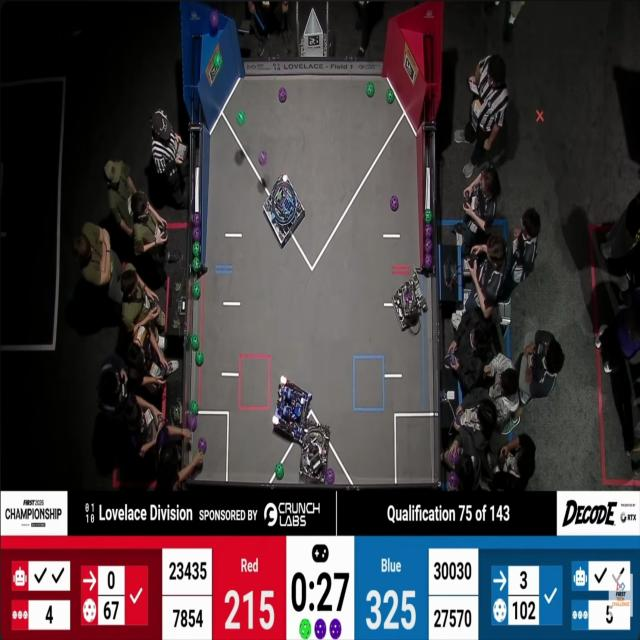artifact_green: (300, 619, 311, 639), (210, 10, 219, 33), (275, 462, 284, 481), (195, 350, 204, 367), (192, 241, 201, 258), (193, 282, 201, 300), (198, 438, 207, 454), (172, 406, 180, 423), (191, 334, 199, 350), (190, 400, 198, 415), (214, 53, 222, 68), (192, 258, 201, 271), (193, 227, 201, 241), (237, 111, 245, 125), (387, 89, 394, 104), (367, 82, 374, 97), (425, 209, 432, 223)
artifact_purple: (315, 619, 326, 639), (330, 619, 341, 639), (448, 471, 459, 489), (210, 10, 219, 31), (449, 448, 459, 466), (188, 414, 197, 431), (278, 87, 287, 103), (326, 469, 335, 484), (390, 196, 398, 212), (198, 438, 206, 453), (425, 239, 433, 253), (193, 227, 201, 241), (425, 224, 433, 238), (425, 254, 432, 268), (193, 212, 200, 226), (259, 151, 266, 165), (405, 293, 412, 302)
